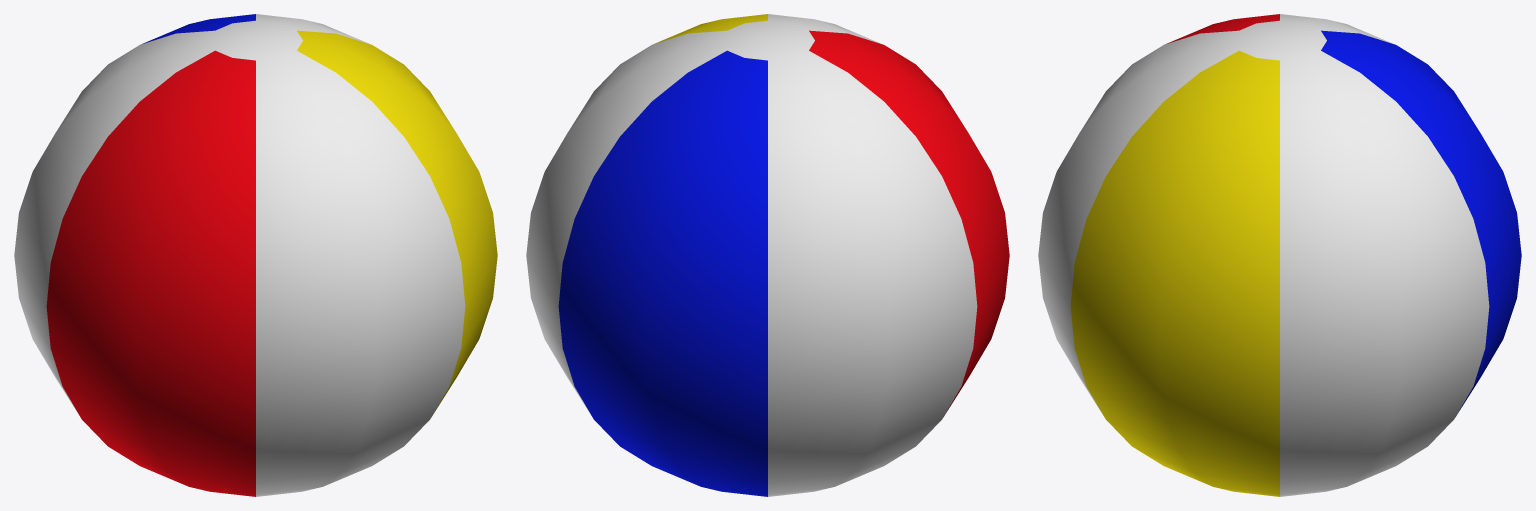
Rendered from beachball.glb.
The picture shows the model from 3 angles, left to right: view 1: azimuth 30°, elevation 25°; view 2: azimuth 150°, elevation 25°; view 3: azimuth 270°, elevation 25°; orthographic projection.
Visible parts, largest first — view 1: Sphere; view 2: Sphere; view 3: Sphere.
Boxes of the visible parts, left/top/right/bottom form: Sphere: left=14, top=14, right=497, bottom=496; Sphere: left=526, top=14, right=1009, bottom=496; Sphere: left=1038, top=14, right=1521, bottom=496.
Size of the model in its own units: 2 by 2 by 2.
